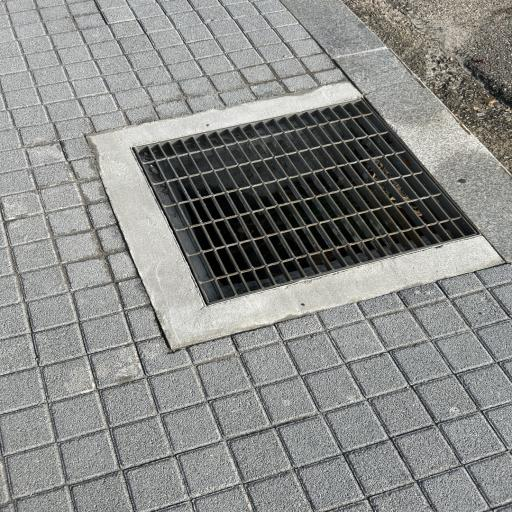drain: (134, 100, 475, 304)
